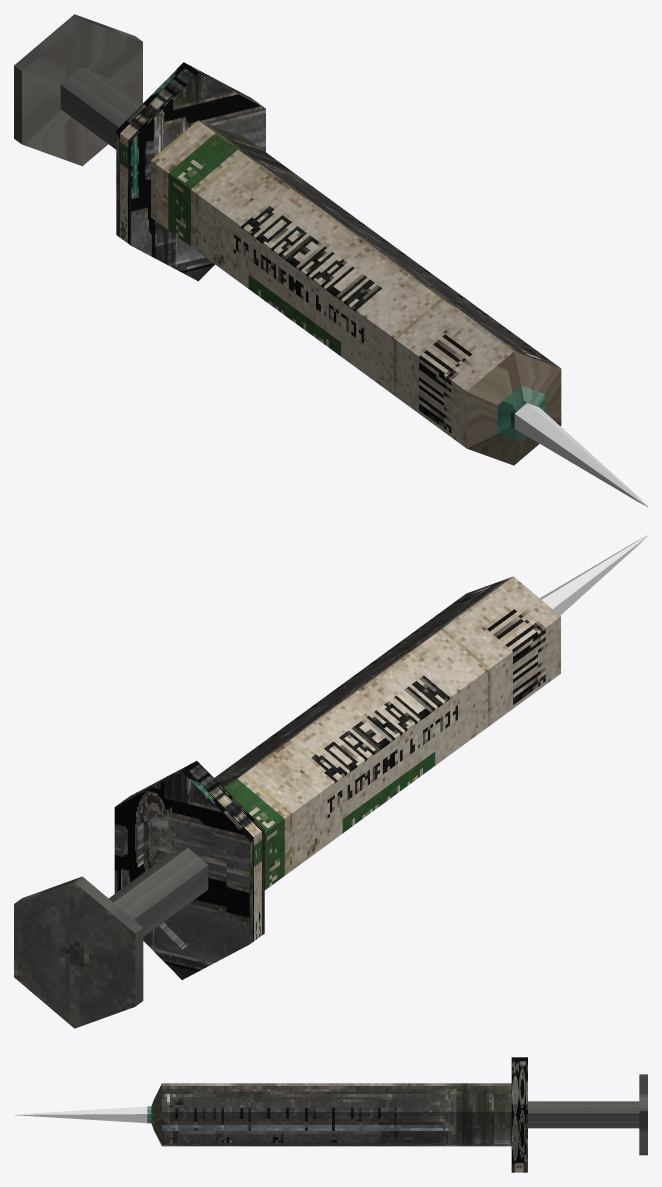
The model's file is adrenalin.glb.
3 views of the same model, one above another, from view 1: azimuth 30°, elevation 25°; view 2: azimuth 150°, elevation 25°; view 3: azimuth 270°, elevation 25° (orthographic). The views are drawn at different scales.
Parts seen in each view (by area): view 1: spritze, kolben; view 2: spritze, kolben; view 3: spritze, kolben.
Boxes of the visible parts, x1,y1,x2,y2 form: spritze: (116, 62, 647, 506); kolben: (14, 14, 142, 166); spritze: (114, 535, 647, 979); kolben: (14, 848, 208, 1028); spritze: (14, 1057, 527, 1172); kolben: (528, 1074, 647, 1155).
Bounding box in the file's own units: 1.11 × 1.63 × 8.12.
3 materials, 2 textured.
